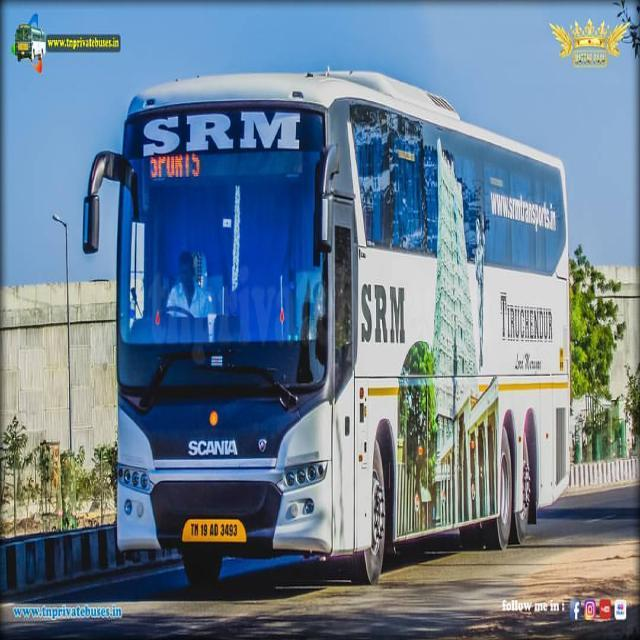Bus: (80, 61, 572, 586)
